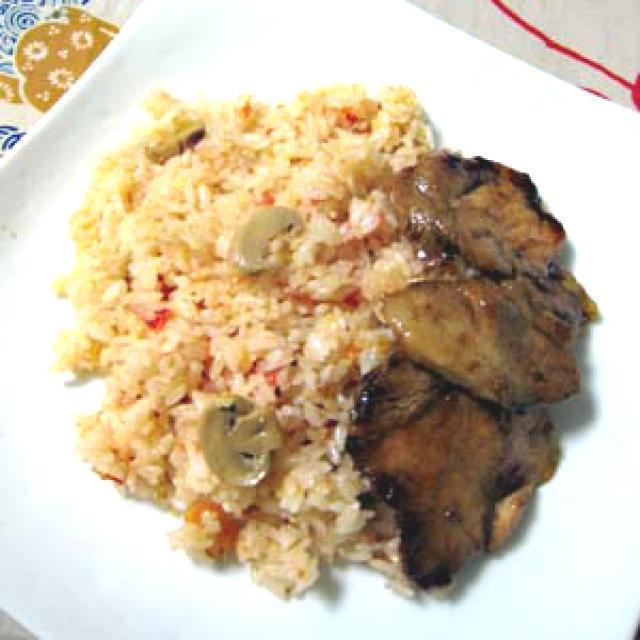pilaf: (86, 92, 372, 568)
